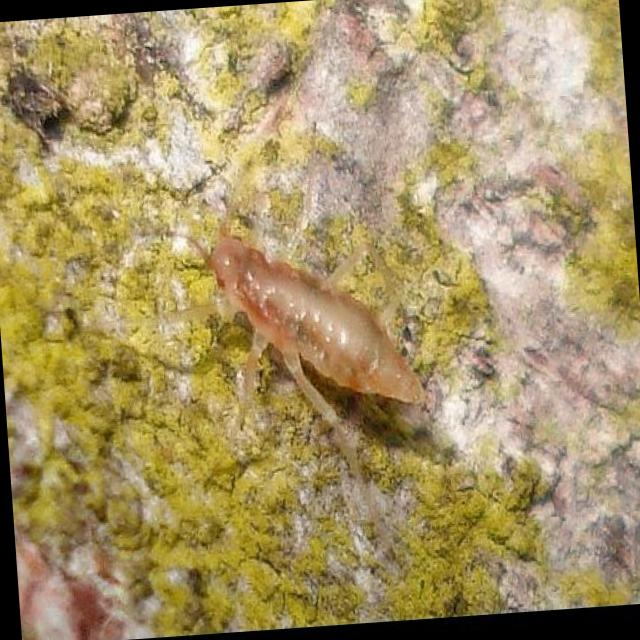aphid: (105, 118, 513, 532)
